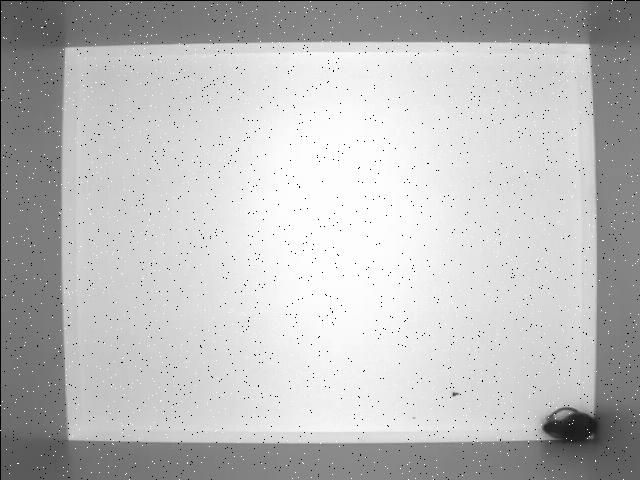Tikus: (526, 400, 602, 446)
